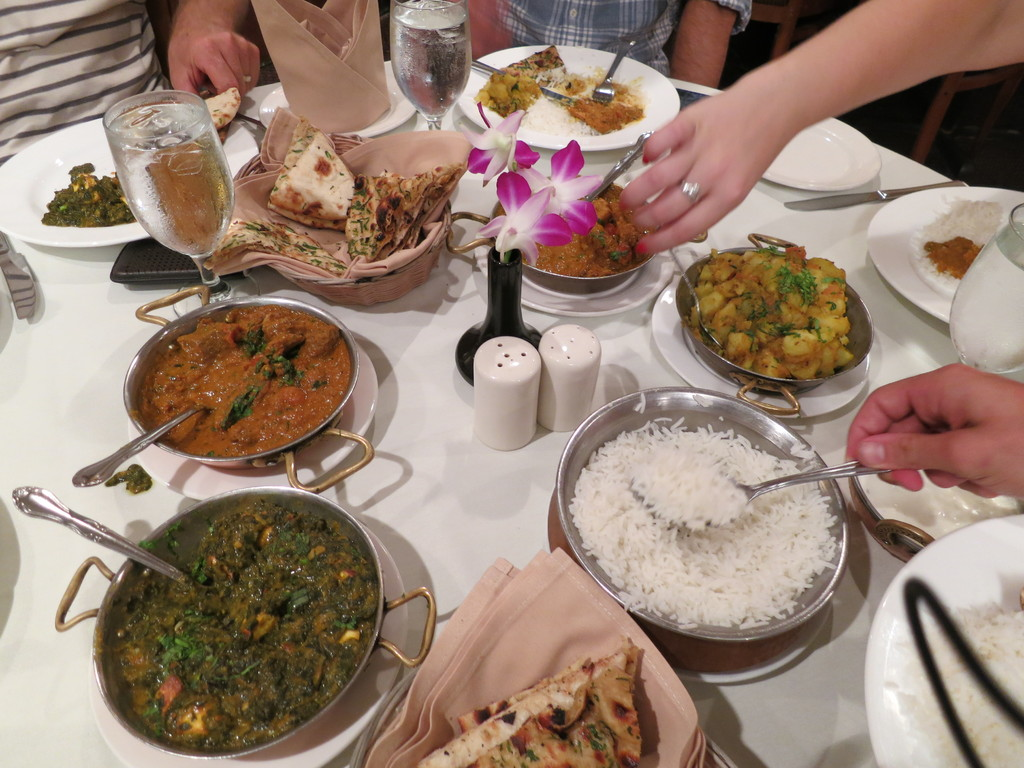person: (466, 0, 753, 89)
